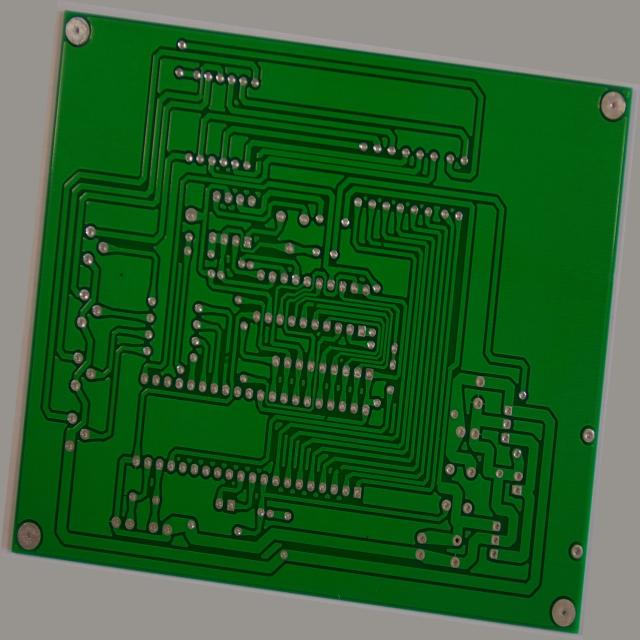open_circuit: (230, 141, 241, 154), (217, 368, 228, 380), (307, 298, 318, 308), (374, 217, 383, 229), (333, 424, 341, 436)
